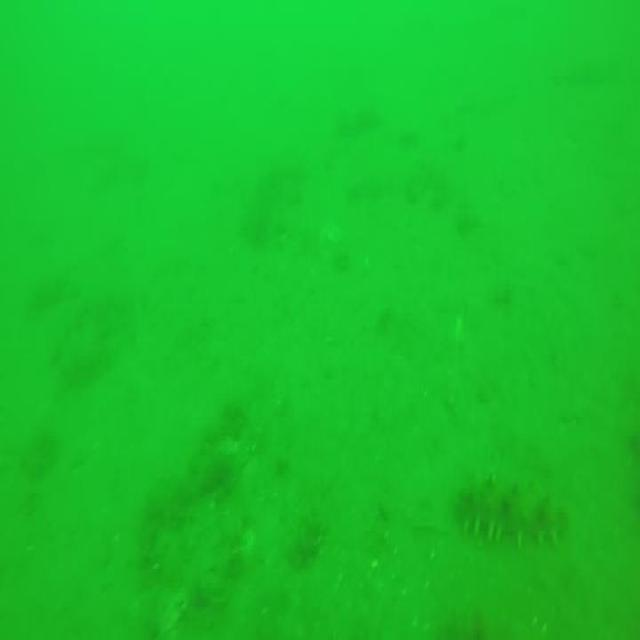holothurian: (457, 472, 566, 556)
scallop: (158, 592, 188, 636), (238, 531, 255, 555)
